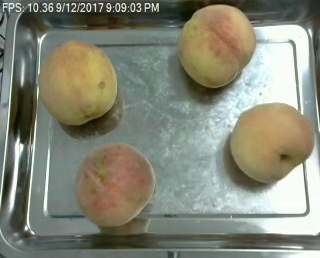Peach: (229, 101, 315, 184), (37, 39, 118, 126), (75, 141, 154, 229), (178, 4, 257, 88)
